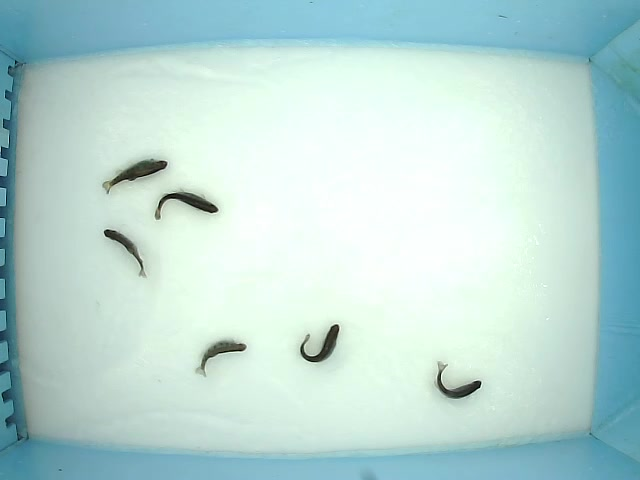fish: (101, 158, 168, 195), (103, 228, 148, 279), (154, 186, 219, 221), (194, 339, 247, 378), (433, 359, 482, 401), (299, 323, 340, 363)
